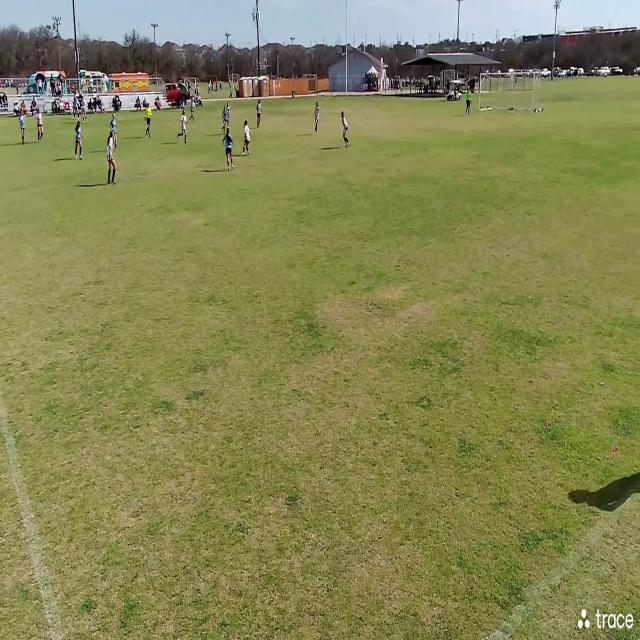team1: (223, 128, 234, 172), (74, 120, 83, 160), (221, 100, 230, 140), (111, 112, 118, 155), (36, 108, 44, 144)
team2: (106, 130, 118, 185), (580, 606, 593, 638), (341, 110, 351, 149), (240, 121, 249, 158), (183, 110, 190, 145), (188, 96, 196, 124), (314, 100, 320, 137), (256, 99, 262, 130)
